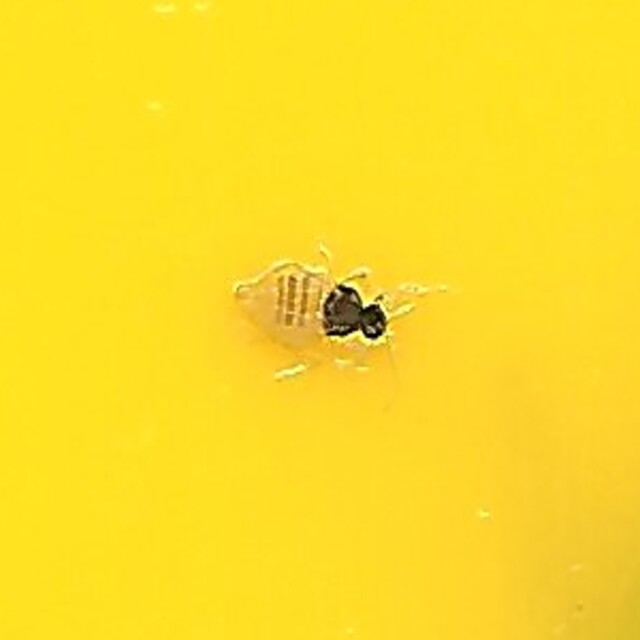Psocoptera: (213, 242, 427, 398)
